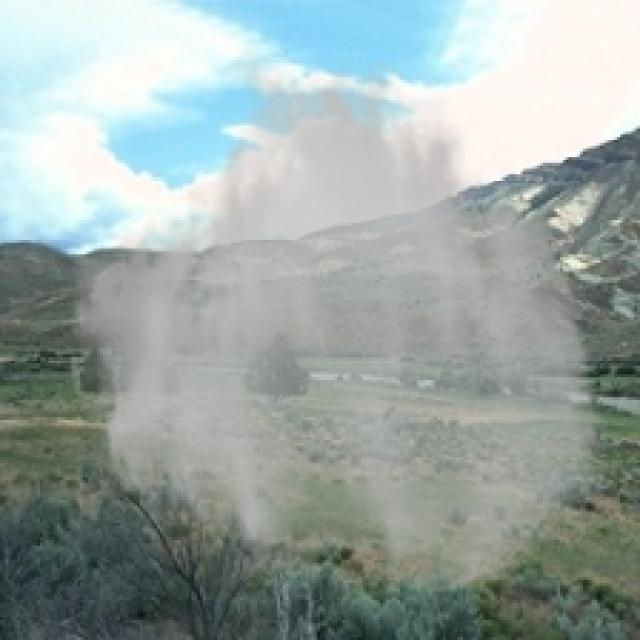Smoke: (62, 45, 614, 598)
